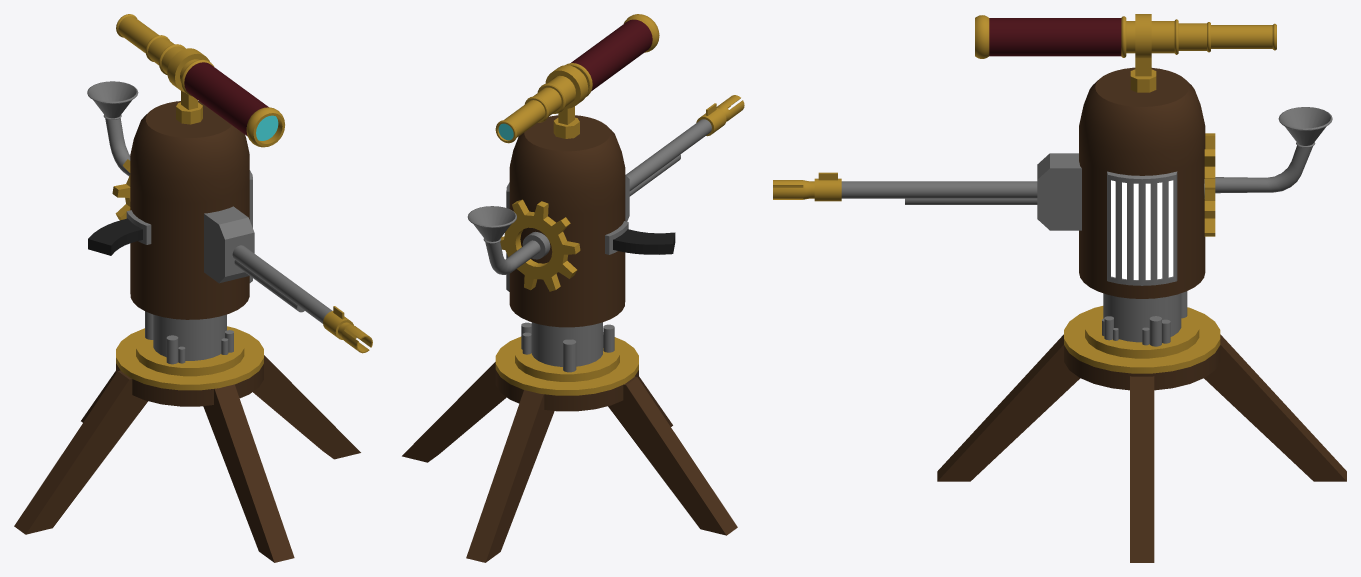
The model's file is Sniper_Turret.fbx.
The picture shows the model from 3 angles, left to right: view 1: azimuth 30°, elevation 25°; view 2: azimuth 150°, elevation 25°; view 3: azimuth 270°, elevation 25°; orthographic projection. The views are drawn at different scales.
Visible parts, largest first — view 1: Corpo.004, Pes.001, Base.003, Luneta, Cano.002, BaseCano, Cylinder.016, Chamine, Carregador, BaseLunetal, Cilindros, Engrenagem.003; view 2: Corpo.004, Pes.001, Base.003, Luneta, Engrenagem.003, Cano.002, Chamine, Cylinder.016, Carregador, BaseLunetal, Cilindros; view 3: Corpo.004, Pes.001, Luneta, Base.003, Cano.002, BaseCano, Chamine, Cylinder.016, BaseLunetal, Cilindros, Engrenagem.003.
Boxes of the visible parts, <box> form: Corpo.004: <box>130,101,252,319</box>; Pes.001: <box>14,355,360,562</box>; Base.003: <box>116,326,263,406</box>; Luneta: <box>116,14,284,147</box>; Cano.002: <box>232,245,372,353</box>; BaseCano: <box>204,206,254,283</box>; Cylinder.016: <box>153,314,226,360</box>; Chamine: <box>87,81,138,176</box>; Carregador: <box>88,210,151,255</box>; BaseLunetal: <box>167,48,209,124</box>; Cilindros: <box>145,311,233,364</box>; Engrenagem.003: <box>112,159,130,220</box>; Corpo.004: <box>506,115,625,327</box>; Pes.001: <box>402,362,737,562</box>; Base.003: <box>495,336,638,411</box>; Luneta: <box>495,14,659,143</box>; Engrenagem.003: <box>500,199,580,291</box>; Cano.002: <box>626,95,744,196</box>; Chamine: <box>467,206,550,274</box>; Cylinder.016: <box>531,322,602,366</box>; Carregador: <box>605,221,675,254</box>; BaseLunetal: <box>545,65,588,138</box>; Cilindros: <box>521,322,614,372</box>; Corpo.004: <box>1079,67,1205,298</box>; Pes.001: <box>937,334,1346,562</box>; Luneta: <box>975,15,1276,58</box>; Base.003: <box>1064,306,1220,390</box>; Cano.002: <box>773,172,1037,204</box>; BaseCano: <box>1037,153,1081,230</box>; Chamine: <box>1204,107,1332,198</box>; Cylinder.016: <box>1103,293,1181,342</box>; BaseLunetal: <box>1130,14,1156,92</box>; Cilindros: <box>1102,291,1187,346</box>; Engrenagem.003: <box>1204,133,1215,236</box>.
Bounding box in the file's own units: 200 × 249 × 281.
